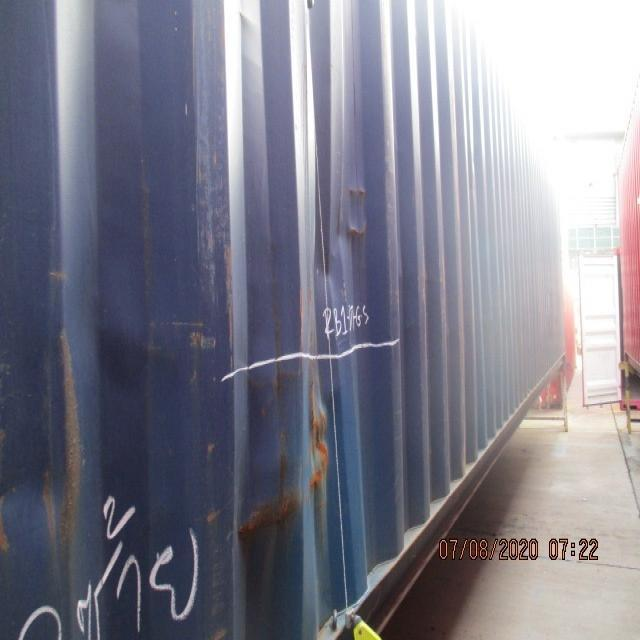rust: (229, 343, 301, 562)
